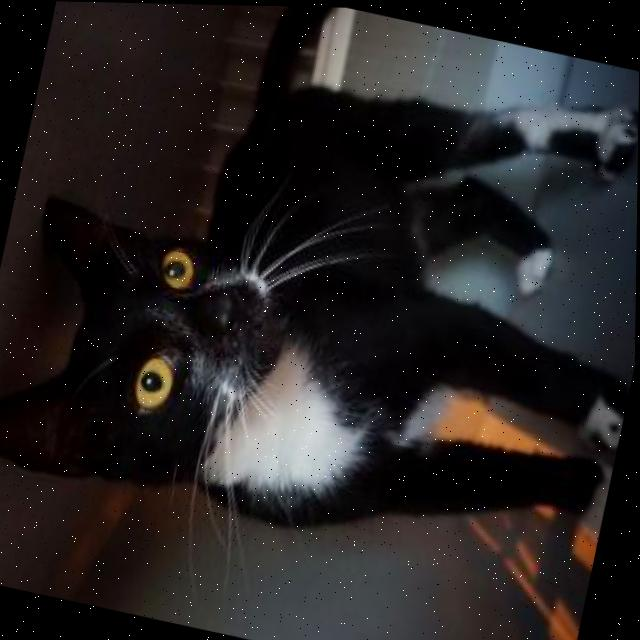Tuxedo: (0, 0, 640, 594)
